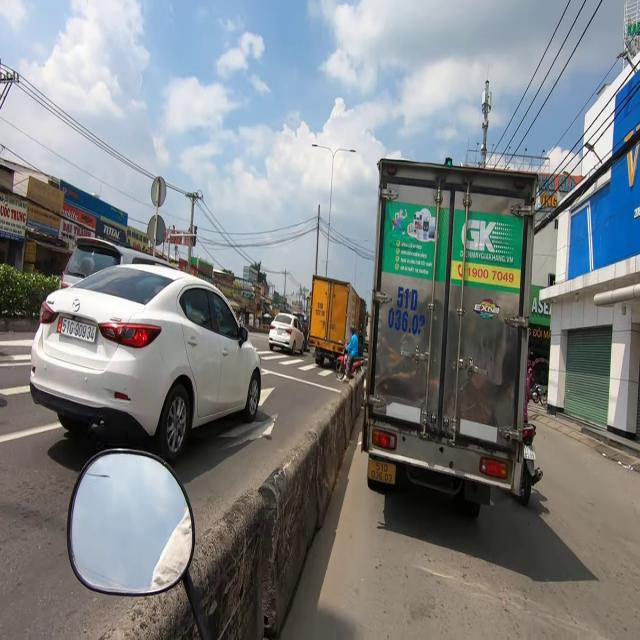bien_vang: (365, 458, 395, 486)
